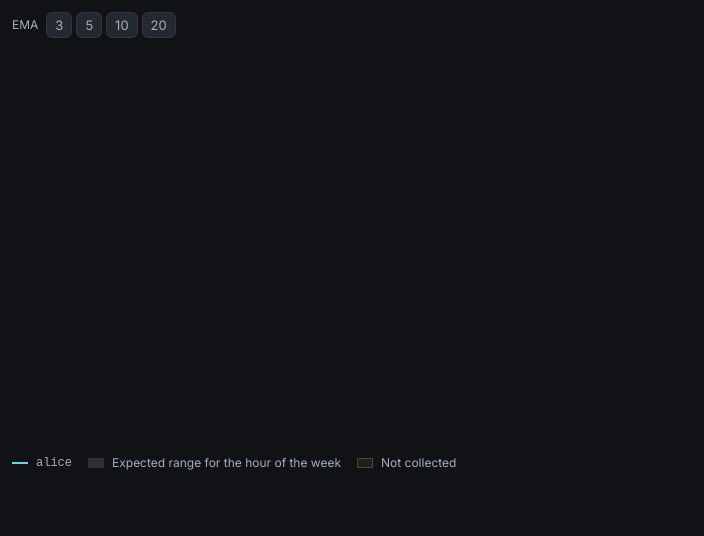
PropertyWatchSeriesChart EMA overlay › shows the display-only note and the screen-reader summary only while a period is on
Click the button named "EMA 5" at (89, 25), box x1=76 y1=12 x2=102 y2=38
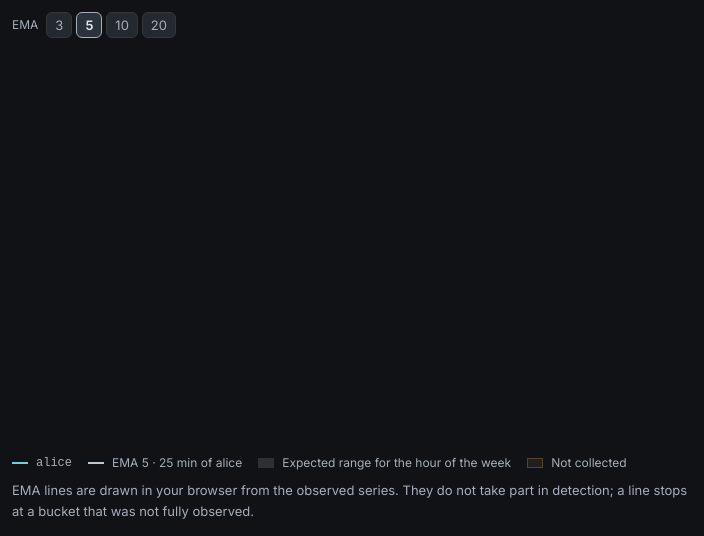
Expected: the text "do not take part in detection" is shown, x1=12 y1=482 x2=687 y2=519
Click the button named "EMA 5" at (89, 25), box x1=76 y1=12 x2=102 y2=38
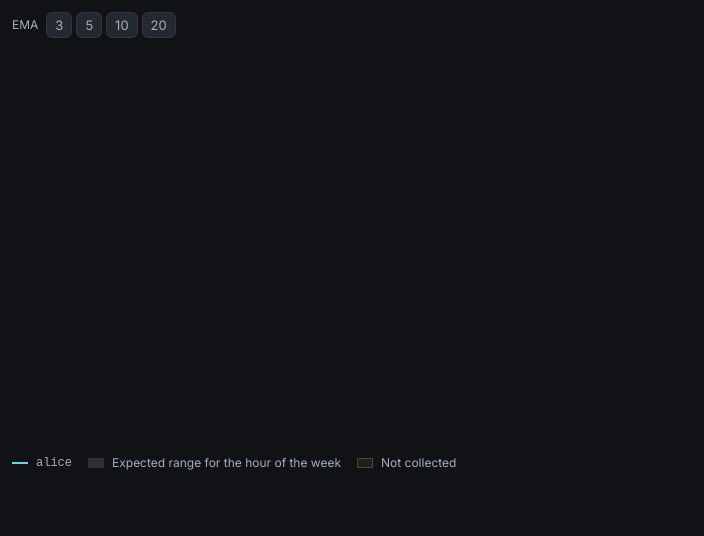
Expected: the text "do not take part in detection" is gone
